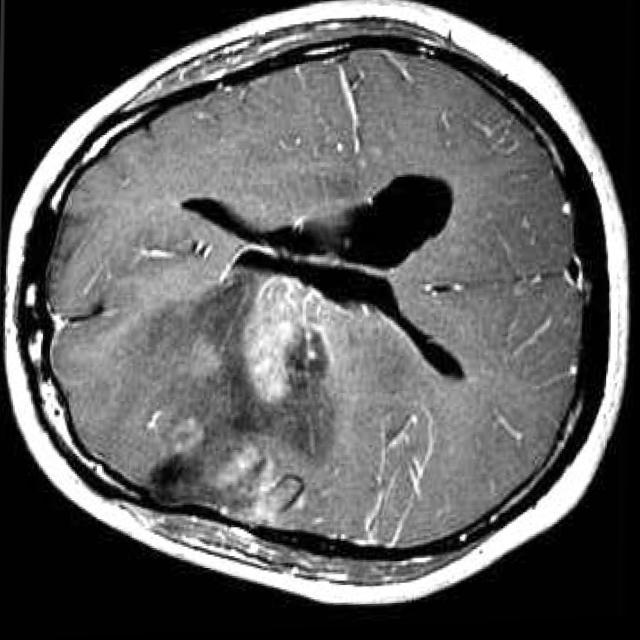Tumor: (157, 279, 332, 532)
